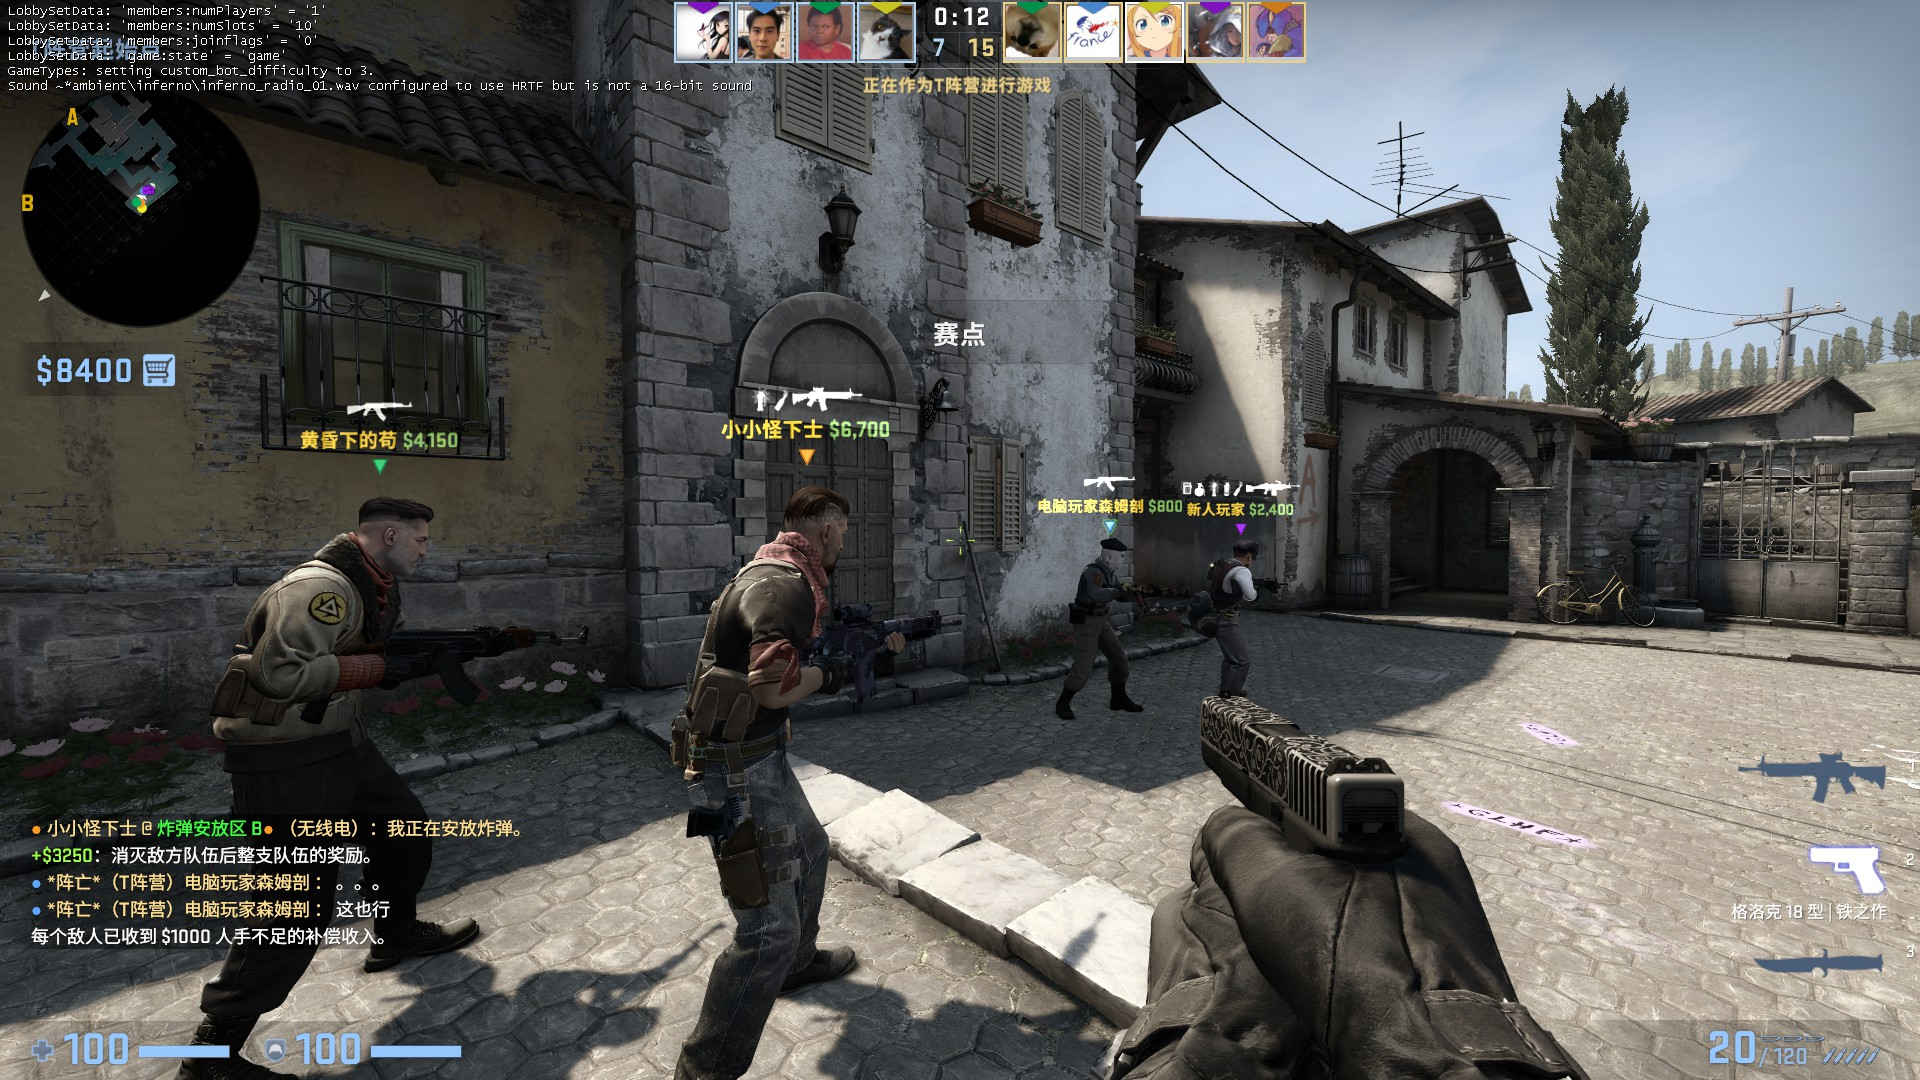head: (355, 496, 431, 576), (783, 482, 847, 569), (1099, 536, 1125, 568), (1230, 539, 1258, 565)
